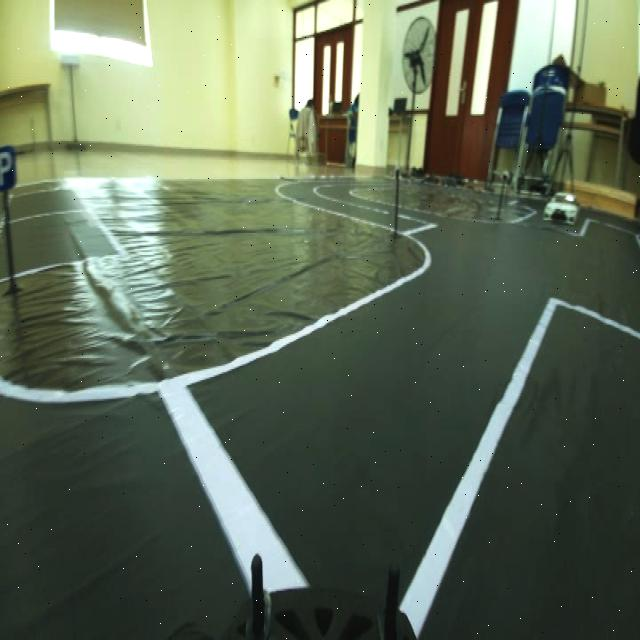parking: (1, 144, 18, 190)
